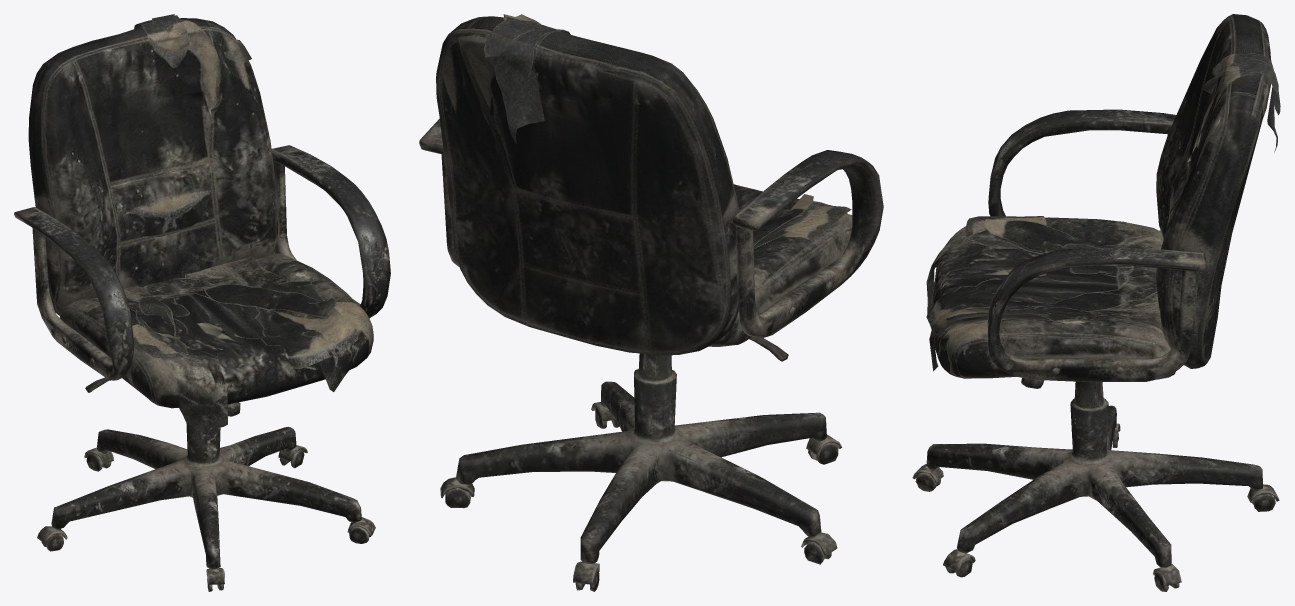
Rendered from office_chair.glb.
3 views of the same model, side by side, from view 1: azimuth 30°, elevation 25°; view 2: azimuth 150°, elevation 25°; view 3: azimuth 270°, elevation 25° (orthographic). The views are drawn at different scales.
Bounding box in the file's own units: 0.7104 × 1 × 0.7011.
Materials: 1 (1 with a texture image).
